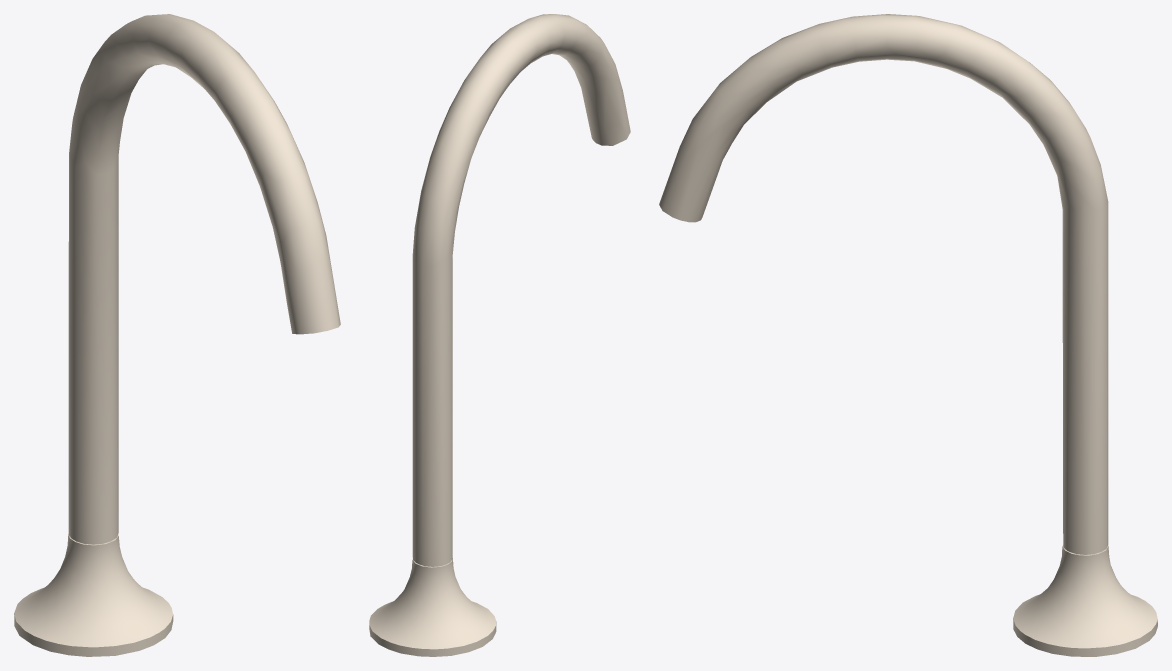
3 renders of one model, left to right at view 1: azimuth 30°, elevation 25°; view 2: azimuth 150°, elevation 25°; view 3: azimuth 270°, elevation 25°, orthographic. The views are drawn at different scales.
Parts seen in each view (by area): view 1: L_5d4efa89_779e_4f6f_84eb_1e48ffb96715_I2, L_afde61bf_8ec3_4fd9_a7a9_9b6805504fb0_I3; view 2: L_5d4efa89_779e_4f6f_84eb_1e48ffb96715_I2, L_afde61bf_8ec3_4fd9_a7a9_9b6805504fb0_I3; view 3: L_5d4efa89_779e_4f6f_84eb_1e48ffb96715_I2, L_afde61bf_8ec3_4fd9_a7a9_9b6805504fb0_I3.
Part boxes in pixels (left/top/right/bottom): L_5d4efa89_779e_4f6f_84eb_1e48ffb96715_I2: left=68, top=14, right=340, bottom=543; L_afde61bf_8ec3_4fd9_a7a9_9b6805504fb0_I3: left=14, top=534, right=173, bottom=656; L_5d4efa89_779e_4f6f_84eb_1e48ffb96715_I2: left=412, top=14, right=630, bottom=566; L_afde61bf_8ec3_4fd9_a7a9_9b6805504fb0_I3: left=369, top=558, right=496, bottom=656; L_5d4efa89_779e_4f6f_84eb_1e48ffb96715_I2: left=659, top=14, right=1108, bottom=554; L_afde61bf_8ec3_4fd9_a7a9_9b6805504fb0_I3: left=1013, top=545, right=1157, bottom=656.
Bounding box in the file's own units: 0.0601 × 0.2802 × 0.2075.
